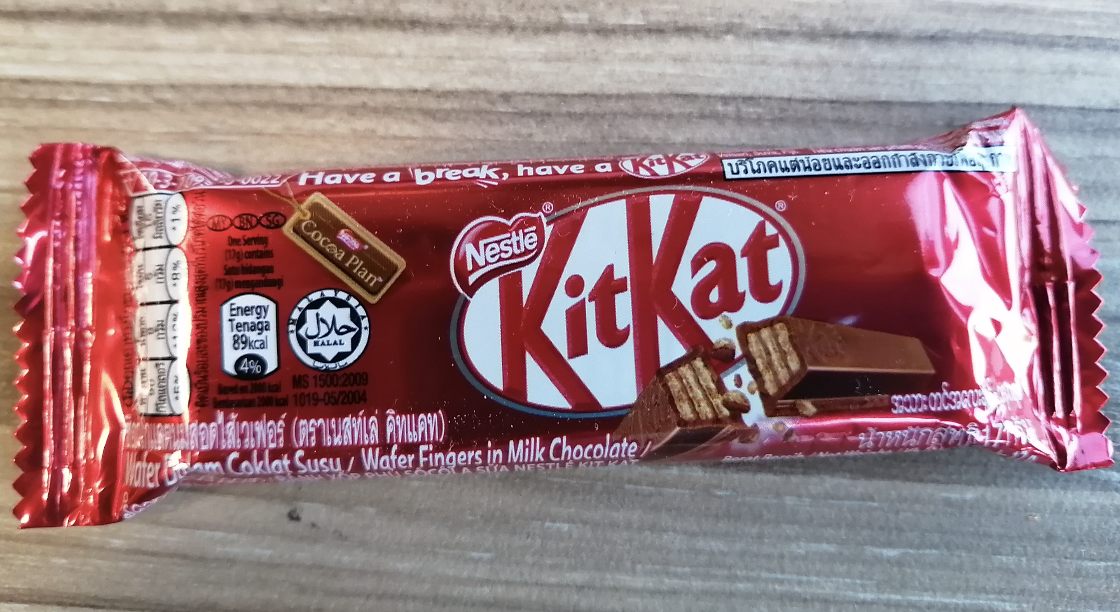Halal: (299, 298, 362, 363)
